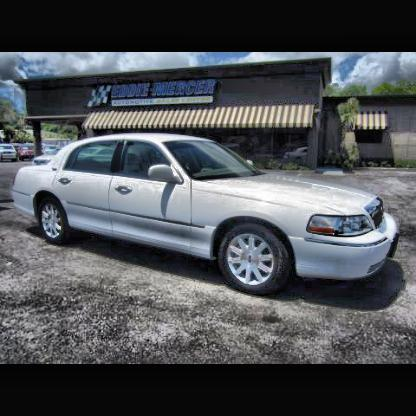Lincoln Town Car Sedan 2011: (12, 136, 401, 295)
